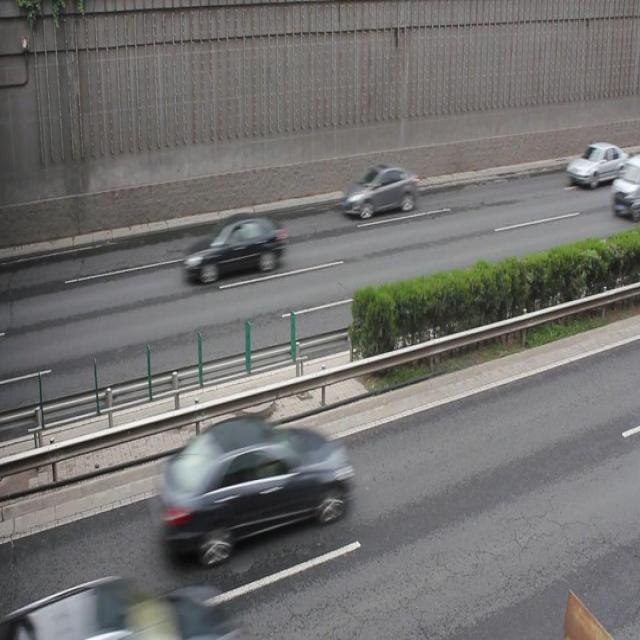car: (152, 414, 352, 562), (29, 573, 229, 640), (181, 213, 286, 282), (341, 161, 417, 215), (563, 140, 629, 184)
truck: (610, 153, 640, 215)
